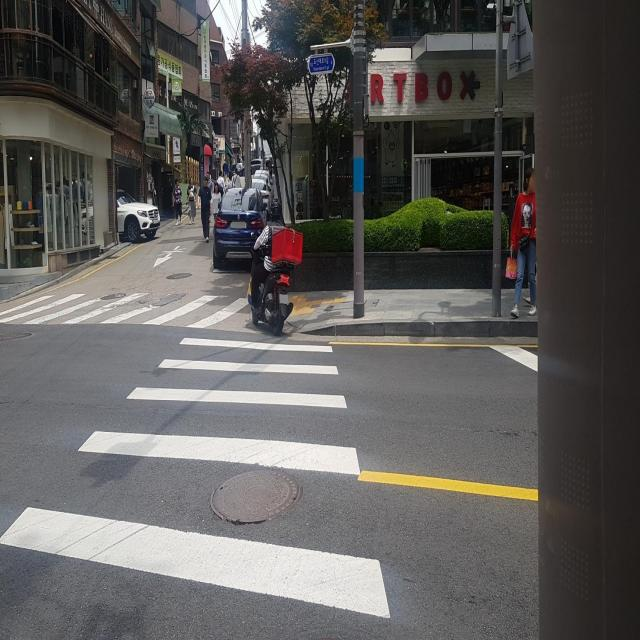횡단보도: (0, 335, 392, 640)
